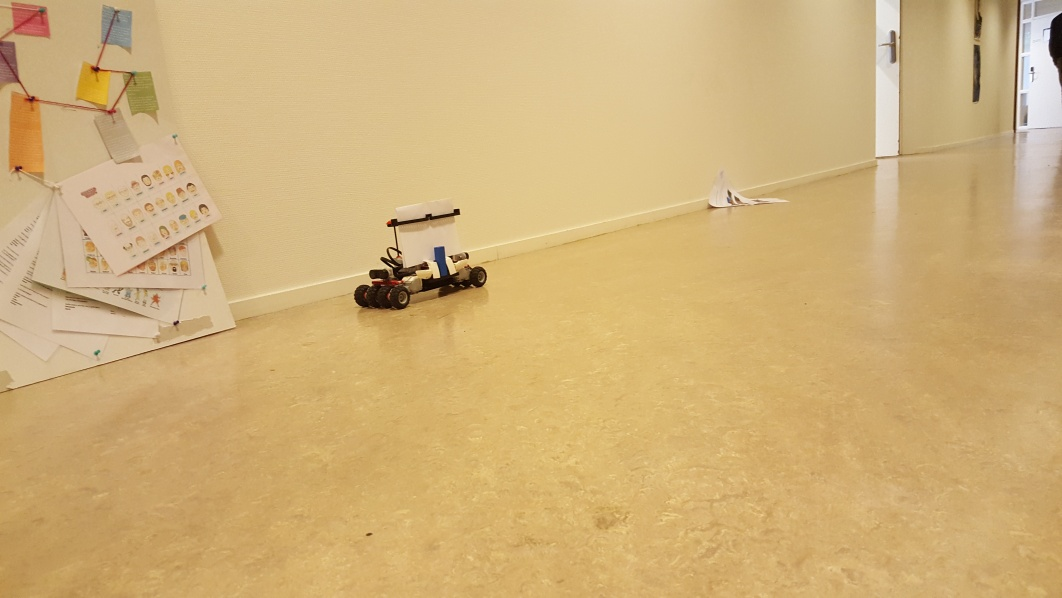beam: (432, 243, 450, 280)
